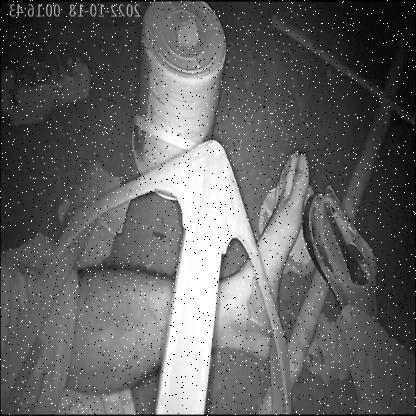leg: (78, 140, 314, 403)
